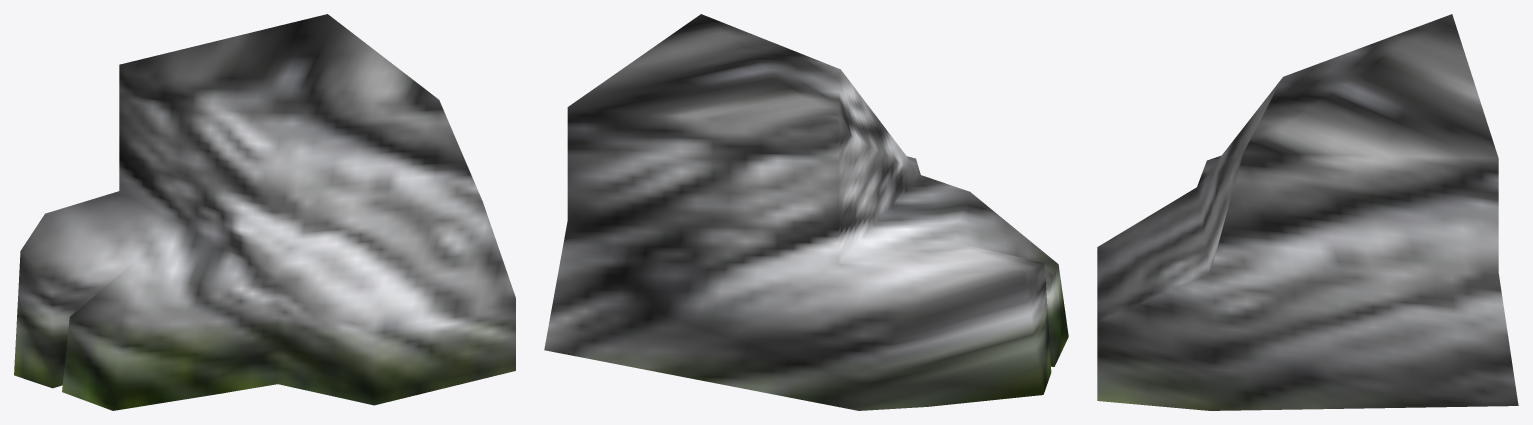
File: Rock1.fbx
The picture shows the model from 3 angles, left to right: view 1: azimuth 30°, elevation 25°; view 2: azimuth 150°, elevation 25°; view 3: azimuth 270°, elevation 25°; orthographic projection. The views are drawn at different scales.
Parts seen in each view (by area): view 1: Rock1; view 2: Rock1; view 3: Rock1.
Part boxes in pixels (bbox=[...]): Rock1: bbox=[14, 14, 515, 410]; Rock1: bbox=[544, 14, 1068, 410]; Rock1: bbox=[1097, 14, 1518, 410].
Size of the model in its own units: 163 by 94.55 by 137.
